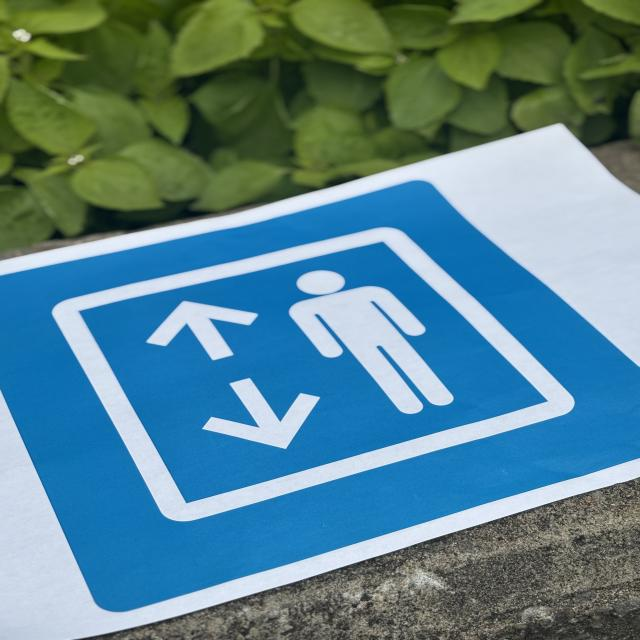elevator: (0, 183, 640, 610)
